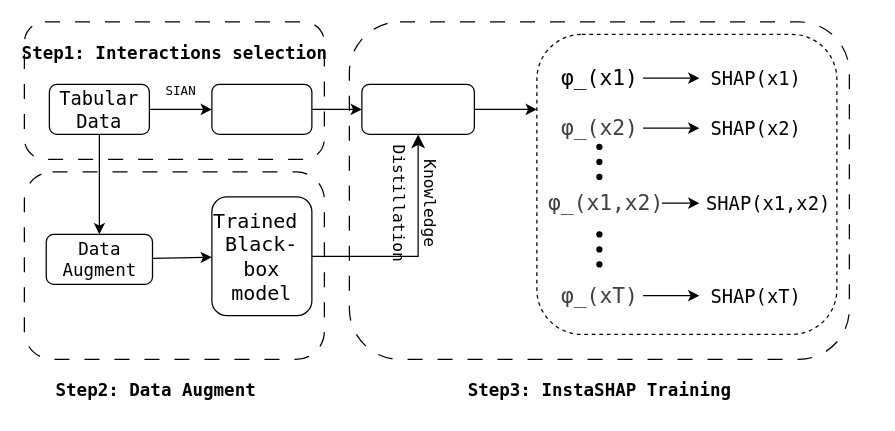
Some shapes in this 895 by 431 pixel diagram are drawn without their labels. The centre of each missing label's shape, as x and y in pixels:
"InstaSHAP" goes at (x=417, y=108).
"Interactions" goes at (x=261, y=108).
